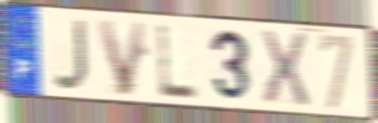3: (206, 27, 255, 104)
7: (317, 31, 358, 112)
J: (50, 18, 90, 93)
L: (156, 22, 202, 102)
V: (95, 18, 149, 99)
X: (258, 27, 313, 108)
